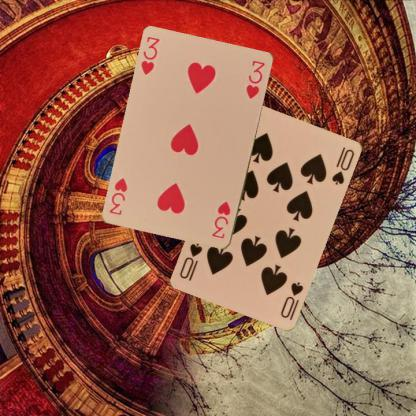10s: (278, 278, 304, 319)
3h: (138, 34, 162, 76), (209, 199, 232, 240)
